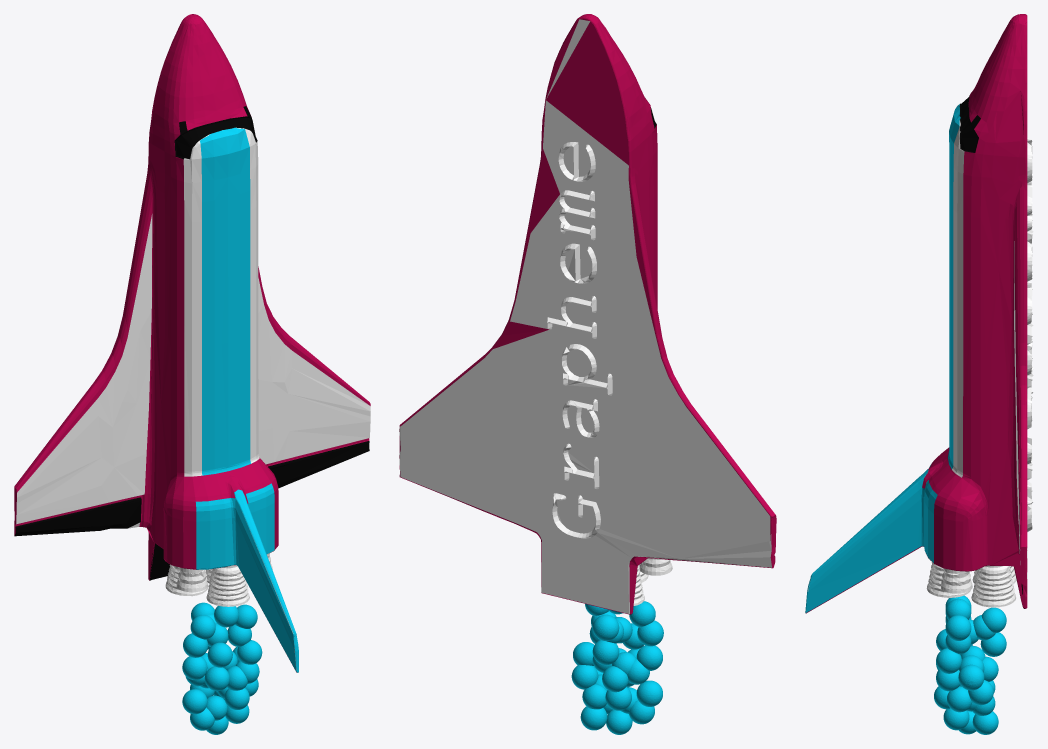
Rendered from Rocket Ship.fbx.
3 renders of one model, left to right at view 1: azimuth 30°, elevation 25°; view 2: azimuth 150°, elevation 25°; view 3: azimuth 270°, elevation 25°, orthographic. The views are drawn at different scales.
Parts seen in each view (by area): view 1: Origin; view 2: Origin; view 3: Origin.
Boxes of the visible parts, left/top/right/bottom form: Origin: left=14, top=14, right=370, bottom=734; Origin: left=399, top=14, right=776, bottom=734; Origin: left=805, top=14, right=1033, bottom=734.
Bounding box in the file's own units: 444 × 837 × 241.
